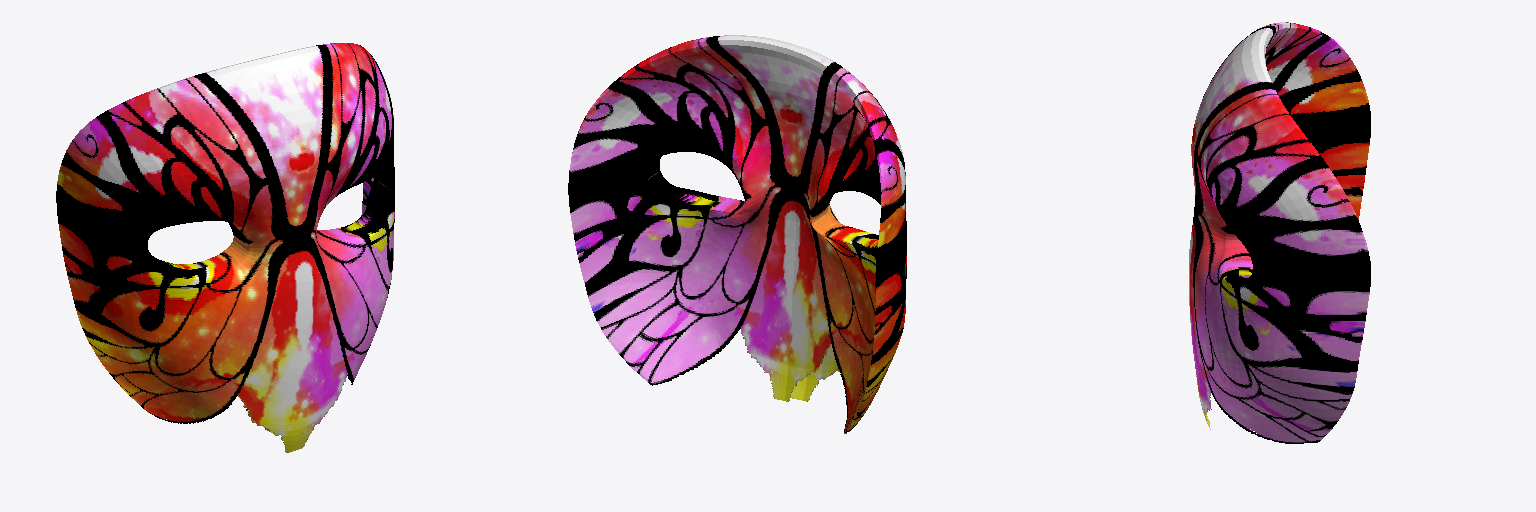
3 renders of one model, left to right at view 1: azimuth 30°, elevation 25°; view 2: azimuth 150°, elevation 25°; view 3: azimuth 270°, elevation 25°, orthographic.
Size of the model in its own units: 1.08 by 1.38 by 0.5527.
1 materials, 1 textured.